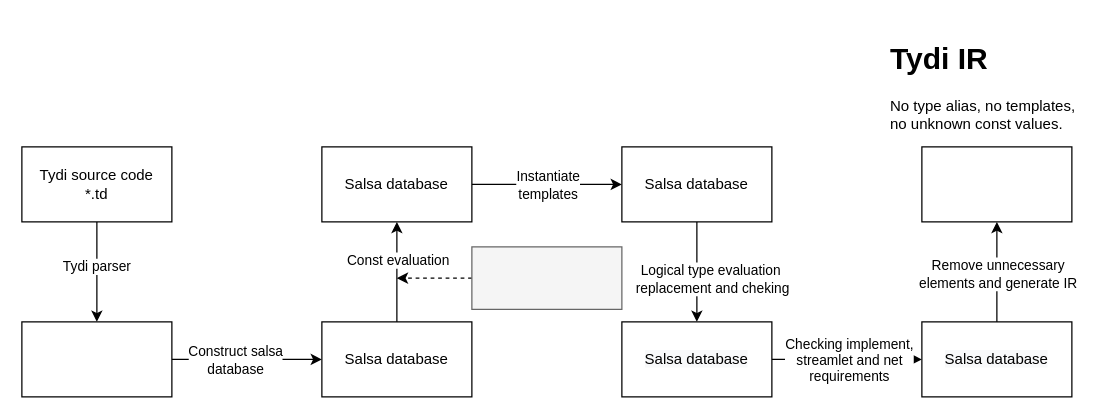
This 1106x419 diagram has some shape labels left out. The centre of each missing label's shape, as x and y in pixels:
"AST tree" belongs at (x=96, y=359).
"Integer, String, Float will be calculated here" belongs at (x=546, y=277).
"Tydi IR" belongs at (x=996, y=184).
